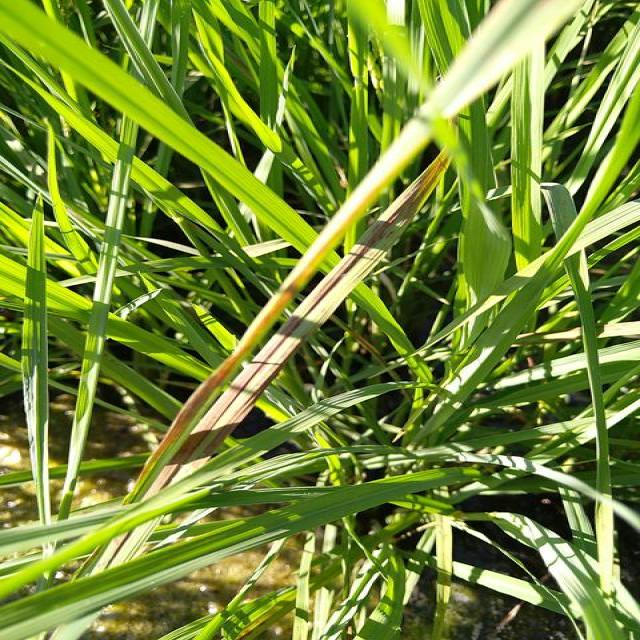Leaf Streak: (144, 156, 448, 501), (143, 139, 417, 472)
